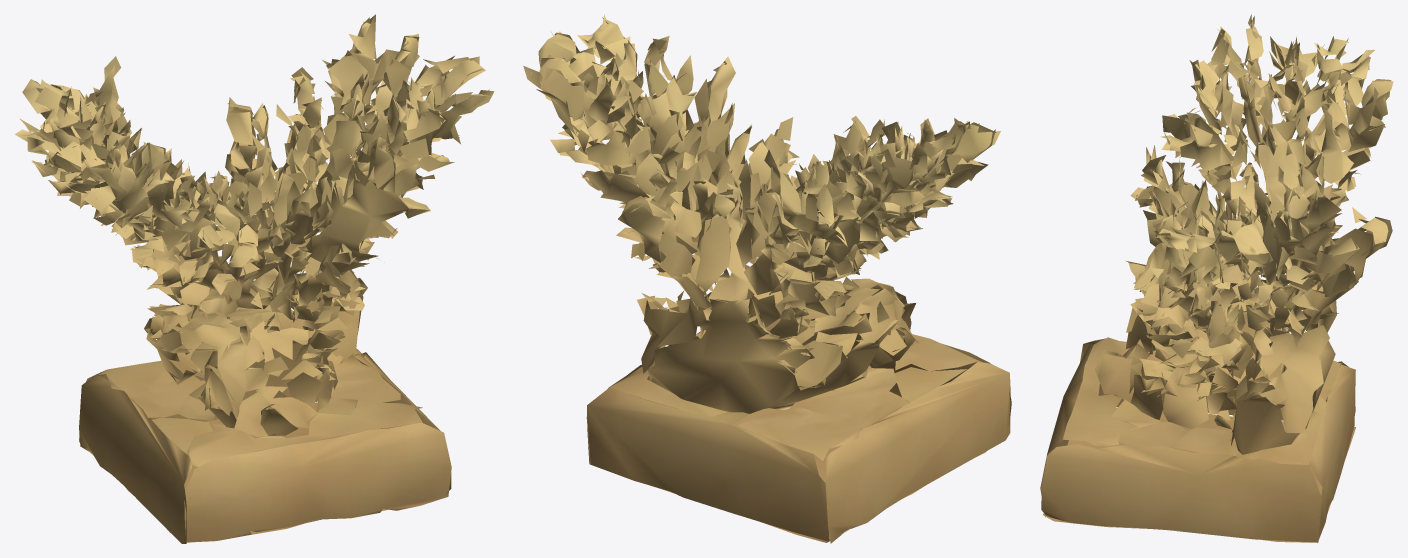
The model's file is acropora_hyacinthus.glb.
3 views of the same model, side by side, from view 1: azimuth 30°, elevation 25°; view 2: azimuth 150°, elevation 25°; view 3: azimuth 270°, elevation 25° (orthographic). The views are drawn at different scales.
Visible parts, largest first — view 1: acropora_hyacinthus_near; view 2: acropora_hyacinthus_near; view 3: acropora_hyacinthus_near.
Boxes of the visible parts, x1,y1,x2,y2 form: acropora_hyacinthus_near: (15,14,494,543); acropora_hyacinthus_near: (523,14,1011,543); acropora_hyacinthus_near: (1040,14,1393,542).
Size of the model in its own units: 0.3899 by 0.3346 by 0.2852.
1 material, 1 textured.
